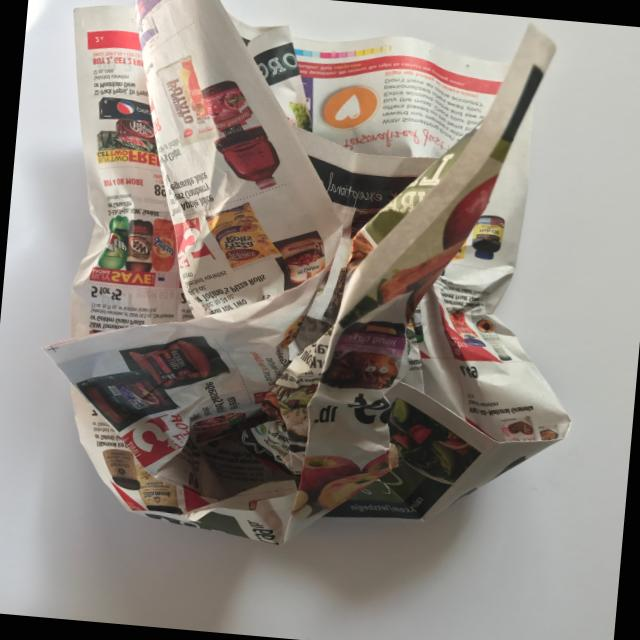Paper: (22, 0, 613, 576)
